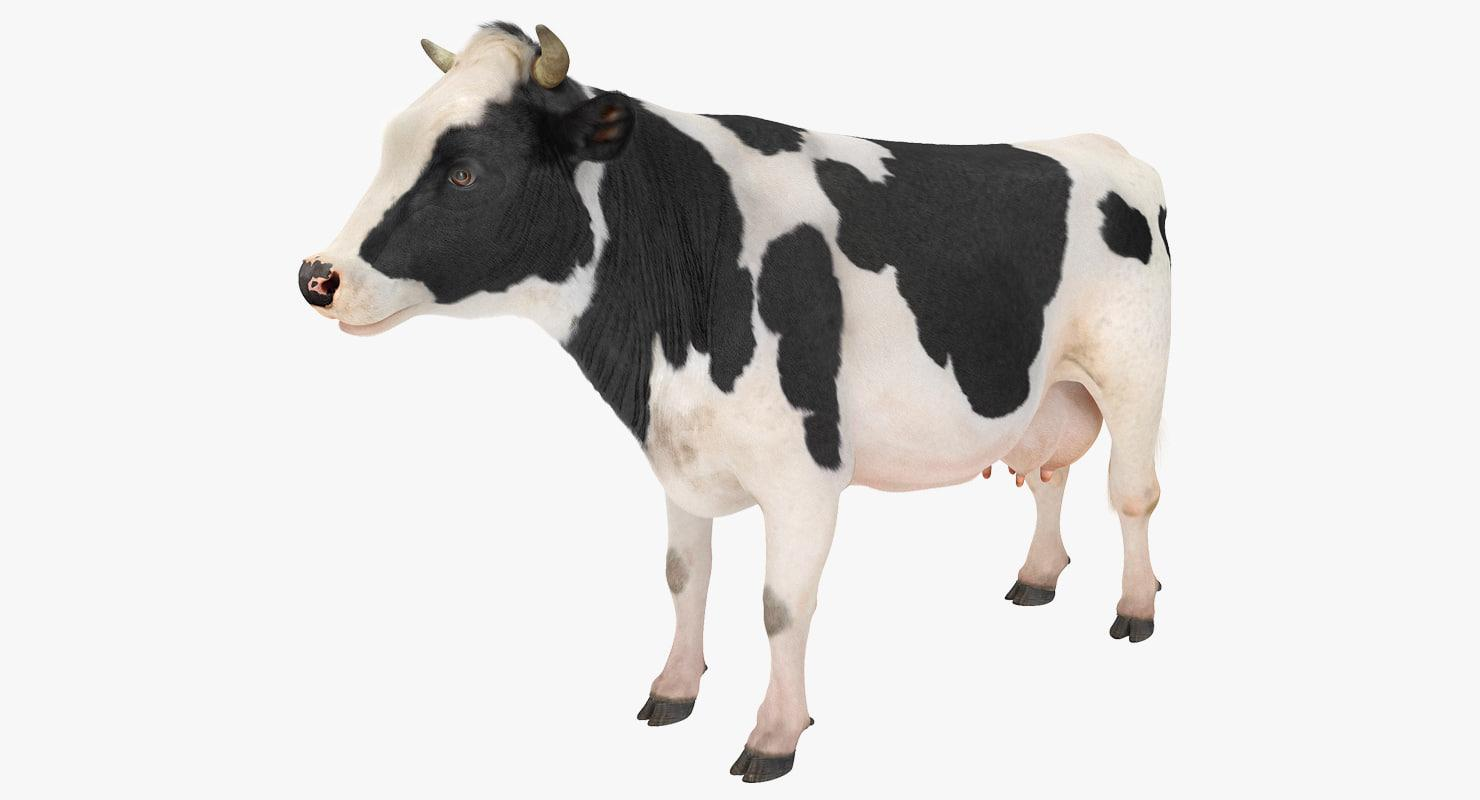cow: (298, 22, 1170, 782)
